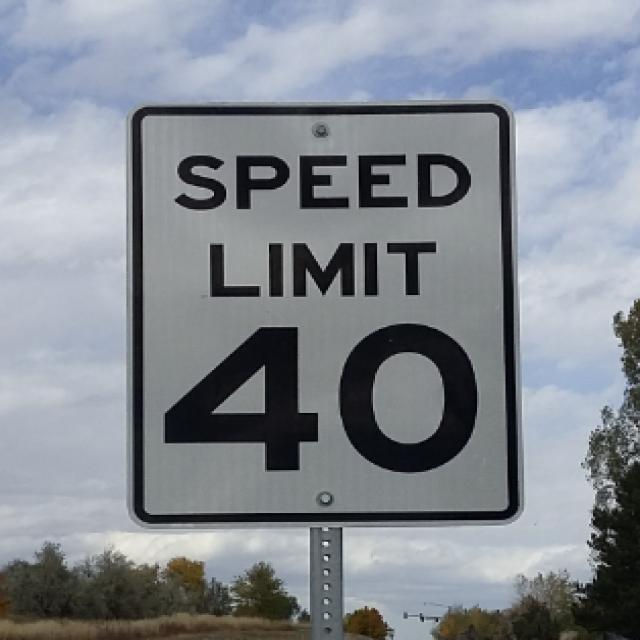speedLimit40: (142, 111, 497, 522)
